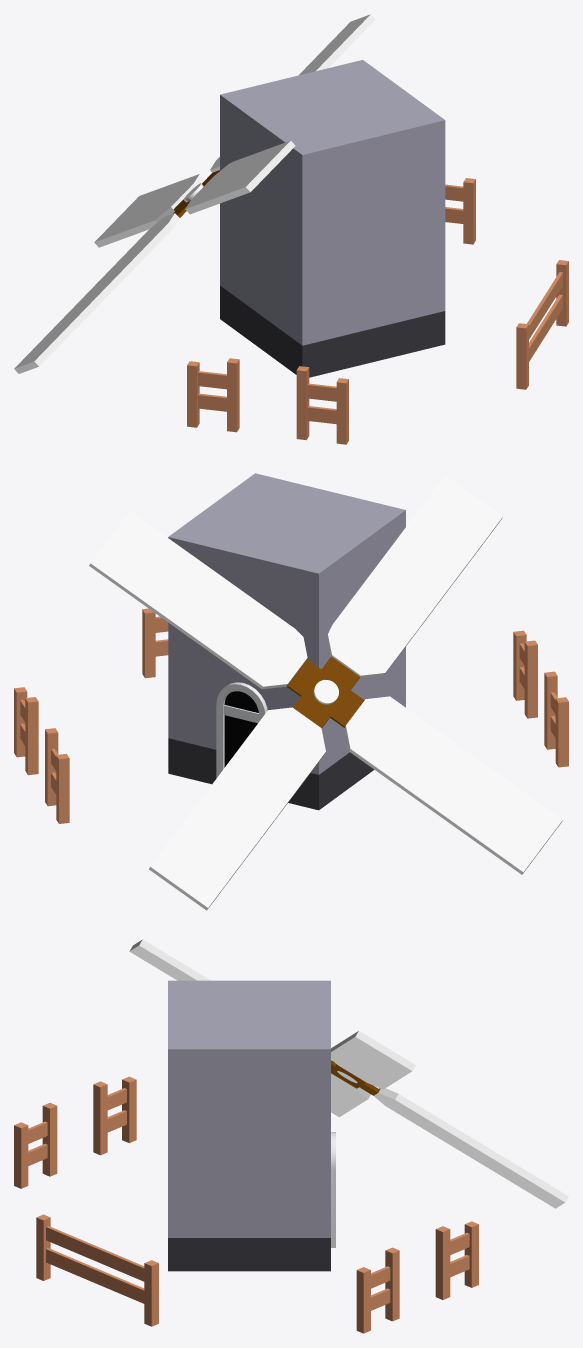
The model's file is Moulin_construct.fbx.
The picture shows the model from 3 angles, top to bottom: view 1: azimuth 30°, elevation 25°; view 2: azimuth 150°, elevation 25°; view 3: azimuth 270°, elevation 25°; orthographic projection. The views are drawn at different scales.
Visible parts, largest first — view 1: block_23, building_windmill_wings_22, fence_woodGate_33, fence_wood_34, fence_woodGate_32; view 2: building_windmill_wings_22, block_23, fence_woodGate_33, fence_woodGate_32, door_rounded_28, fence_wood_34; view 3: block_23, building_windmill_wings_22, fence_woodGate_33, fence_woodGate_32, fence_wood_34, door_rounded_28.
Boxes of the visible parts, x1=… form: block_23: x1=220, y1=60, x2=445, y2=377; building_windmill_wings_22: x1=14, y1=14, x2=375, y2=373; fence_woodGate_33: x1=187, y1=358, x2=348, y2=444; fence_wood_34: x1=516, y1=260, x2=568, y2=389; fence_woodGate_32: x1=445, y1=178, x2=475, y2=244; building_windmill_wings_22: x1=89, y1=475, x2=562, y2=910; block_23: x1=168, y1=473, x2=405, y2=810; fence_woodGate_33: x1=513, y1=630, x2=568, y2=767; fence_woodGate_32: x1=14, y1=687, x2=69, y2=823; door_rounded_28: x1=216, y1=682, x2=267, y2=778; fence_wood_34: x1=142, y1=608, x2=168, y2=678; block_23: x1=168, y1=980, x2=330, y2=1271; building_windmill_wings_22: x1=129, y1=939, x2=568, y2=1208; fence_woodGate_33: x1=14, y1=1076, x2=136, y2=1188; fence_woodGate_32: x1=356, y1=1221, x2=478, y2=1333; fence_wood_34: x1=36, y1=1214, x2=158, y2=1326; door_rounded_28: x1=331, y1=1132, x2=335, y2=1247.
Size of the model in its own units: 33.66 by 17.67 by 34.03.
